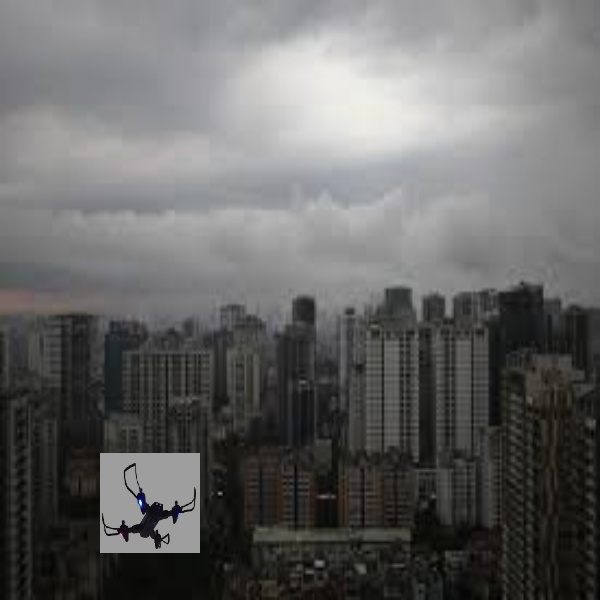drone: (101, 454, 202, 549)
